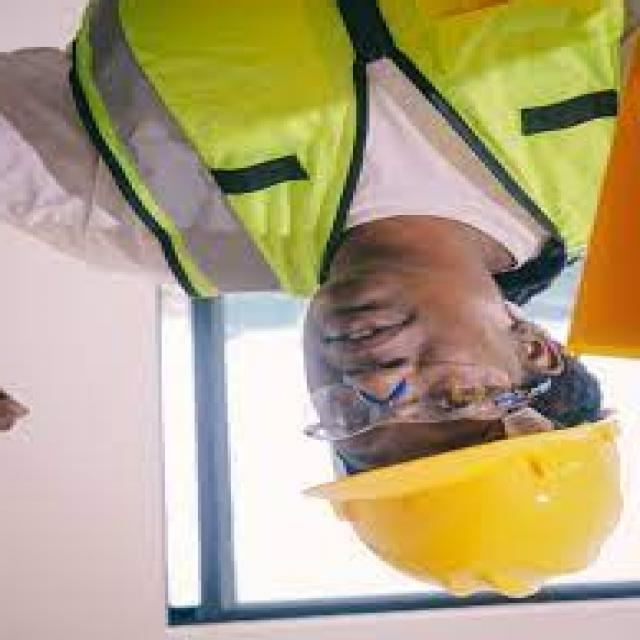safetyhelmet: (294, 313, 634, 600)
